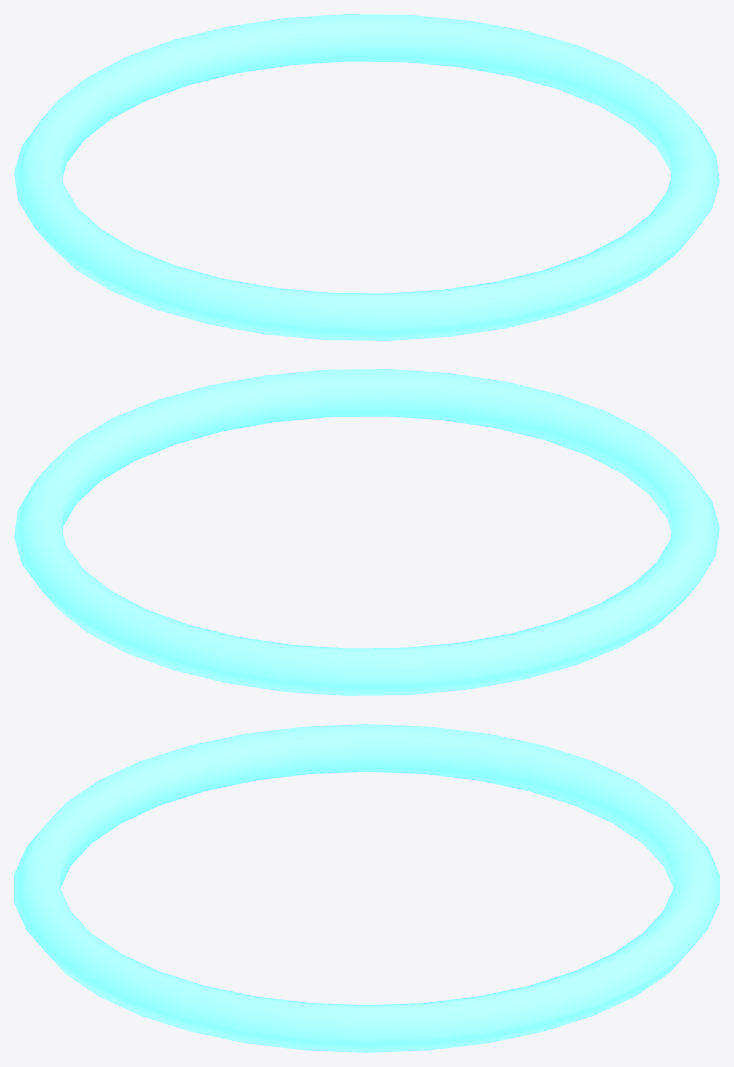
The model's file is ThrusterDonut.fbx.
3 views of the same model, one above another, from view 1: azimuth 30°, elevation 25°; view 2: azimuth 150°, elevation 25°; view 3: azimuth 270°, elevation 25° (orthographic).
Parts seen in each view (by area): view 1: Torus; view 2: Torus; view 3: Torus.
Boxes of the visible parts, bbox=[...] form: Torus: bbox=[14, 14, 719, 340]; Torus: bbox=[14, 369, 719, 695]; Torus: bbox=[14, 724, 719, 1052].
Size of the model in its own units: 51.04 by 3.5 by 50.82.
